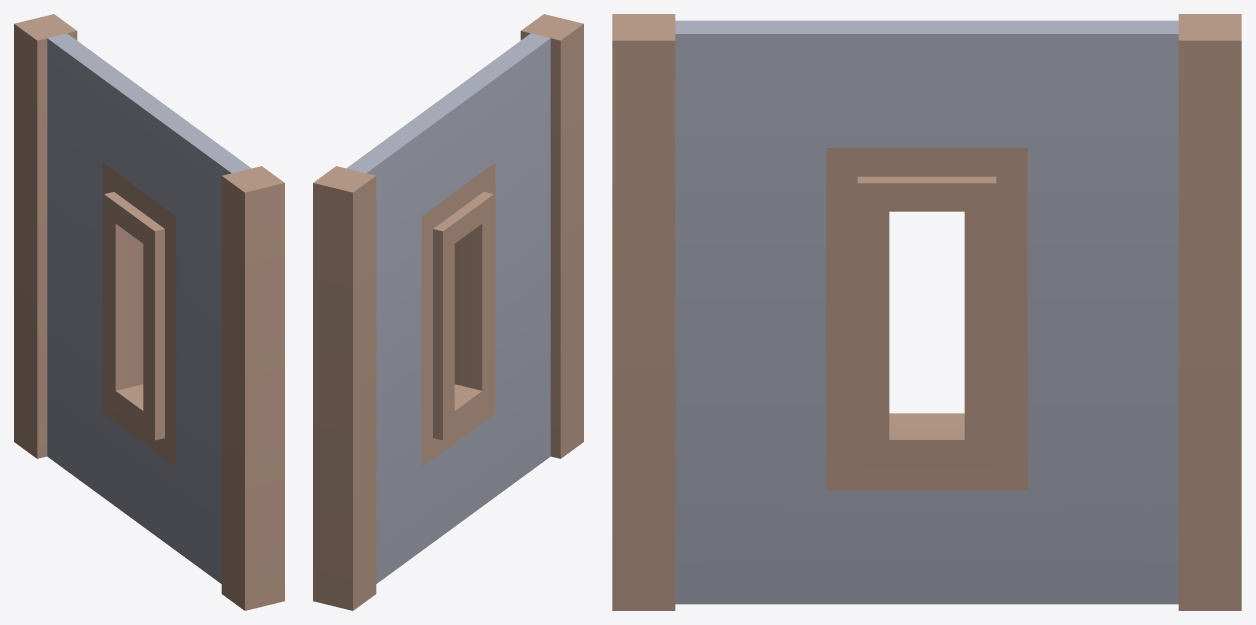
Rendered from wall-window-small.glb.
3 renders of one model, left to right at view 1: azimuth 30°, elevation 25°; view 2: azimuth 150°, elevation 25°; view 3: azimuth 270°, elevation 25°, orthographic. The views are drawn at different scales.
Visible parts, largest first — view 1: wall-window-small; view 2: wall-window-small; view 3: wall-window-small.
Boxes of the visible parts, left/top/right/bottom form: wall-window-small: left=14, top=14, right=284, bottom=610; wall-window-small: left=313, top=14, right=583, bottom=610; wall-window-small: left=612, top=14, right=1241, bottom=610.
Size of the model in its own units: 0.1 by 1 by 1.
